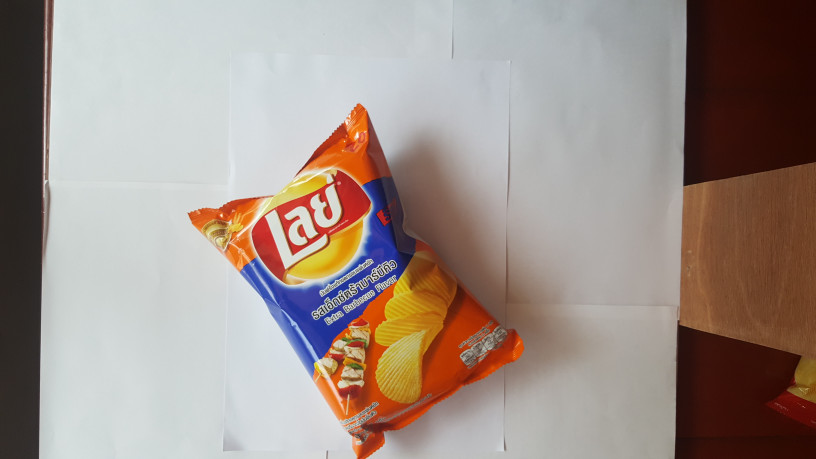lays-bbq: (188, 88, 526, 459)
